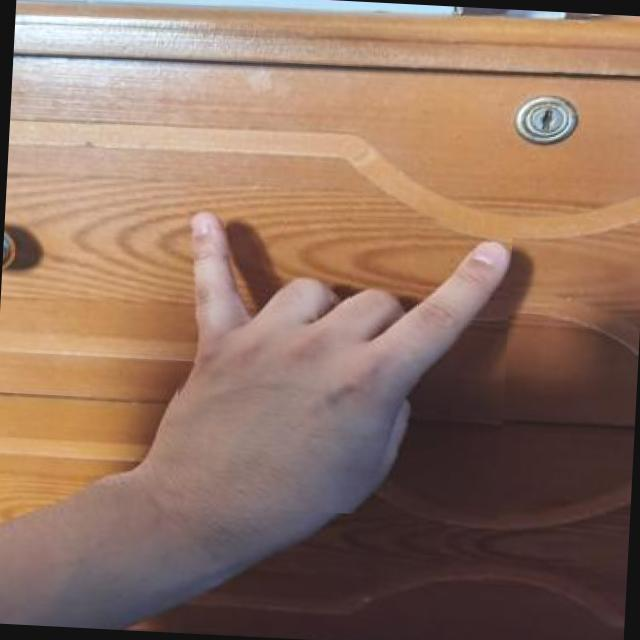U: (168, 204, 514, 522)
